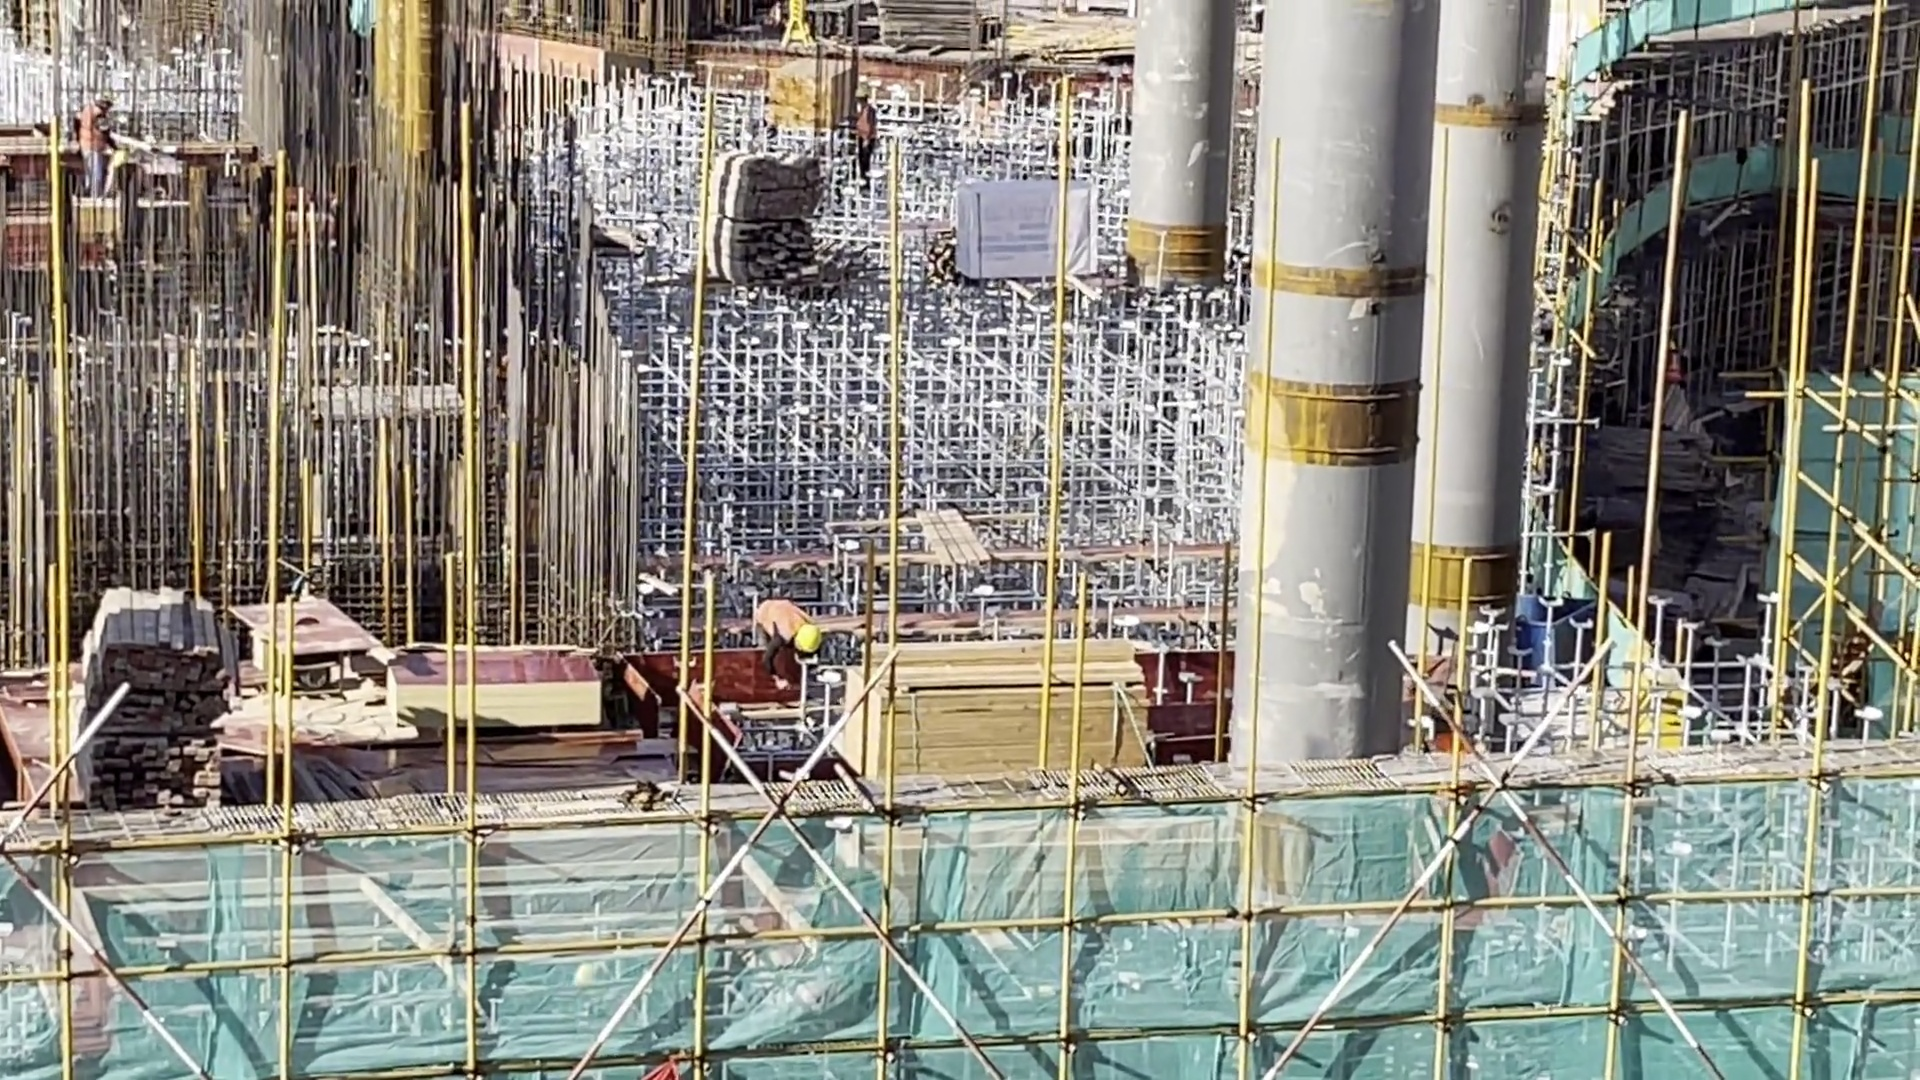helmet: (791, 617, 832, 667)
person: (744, 590, 828, 713)
vest: (755, 597, 804, 641)
wood: (838, 608, 1173, 794), (78, 565, 230, 824)
